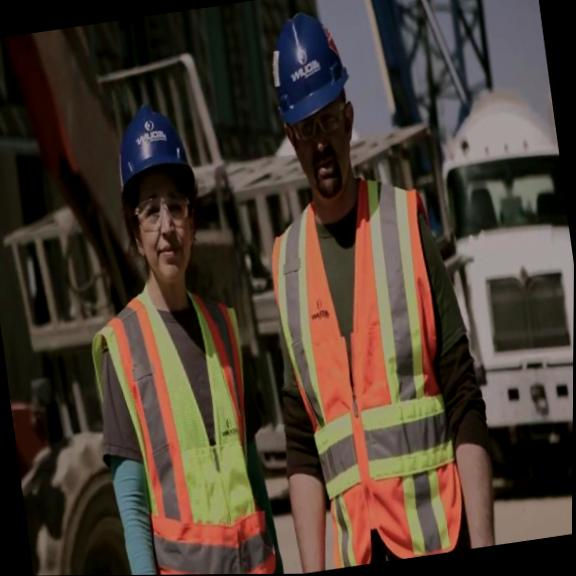safety_vest: (260, 170, 478, 573), (82, 269, 281, 575)
